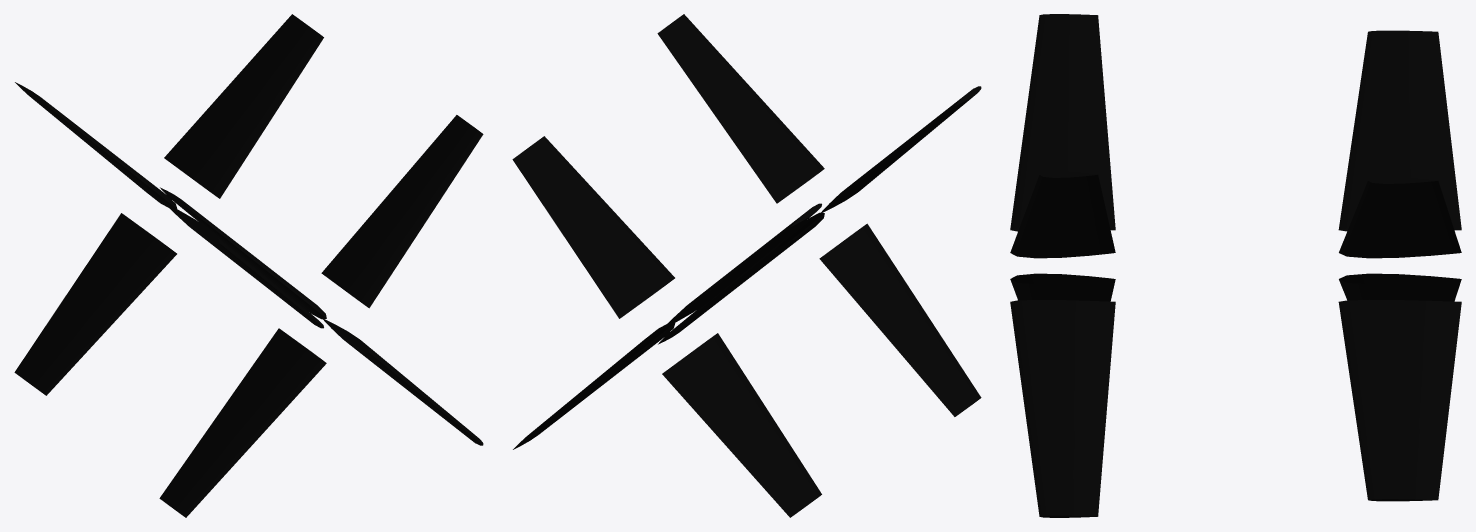
Rendered from loiter_wings.obj.
3 views of the same model, side by side, from view 1: azimuth 30°, elevation 25°; view 2: azimuth 150°, elevation 25°; view 3: azimuth 270°, elevation 25° (orthographic). The views are drawn at different scales.
Bounding box in the file's own units: 1.3 × 1.3 × 1.54.
